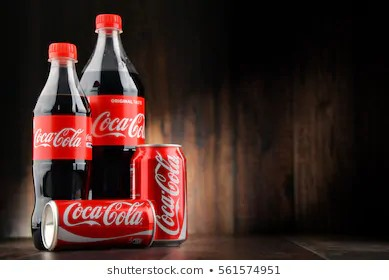coke-bottle-2l: (81, 8, 149, 198)
coke-bottle-700ml: (31, 38, 95, 199)
coke-can: (37, 200, 156, 252), (133, 142, 189, 245)
